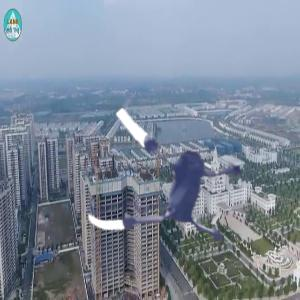drone: (77, 86, 266, 275)
